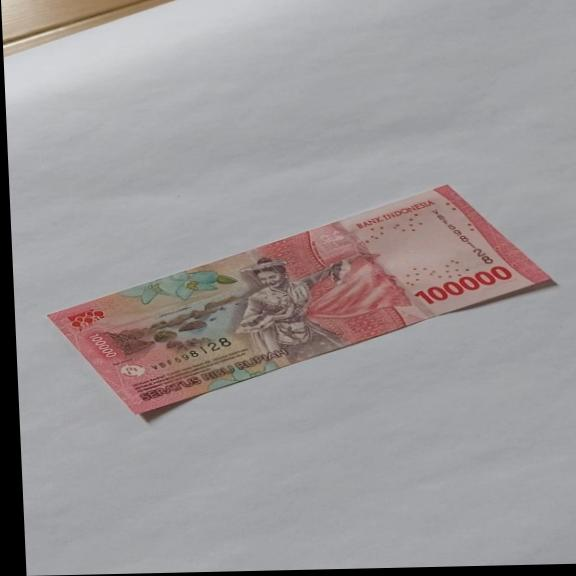Kertas: (41, 181, 561, 418), (411, 265, 515, 306)
